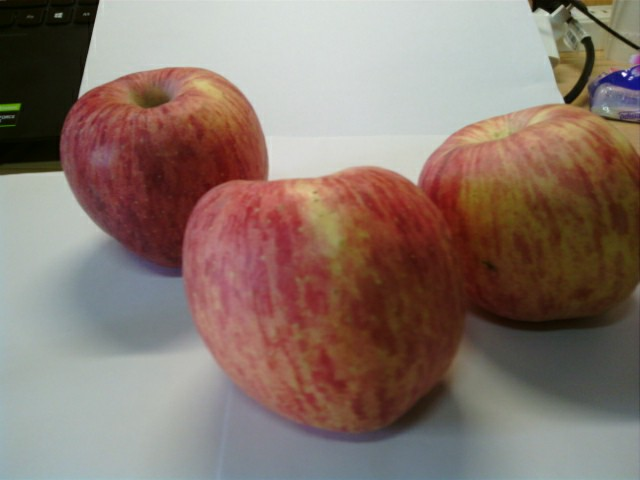normal_apple: (184, 168, 467, 441), (412, 103, 640, 326), (60, 68, 270, 270)
